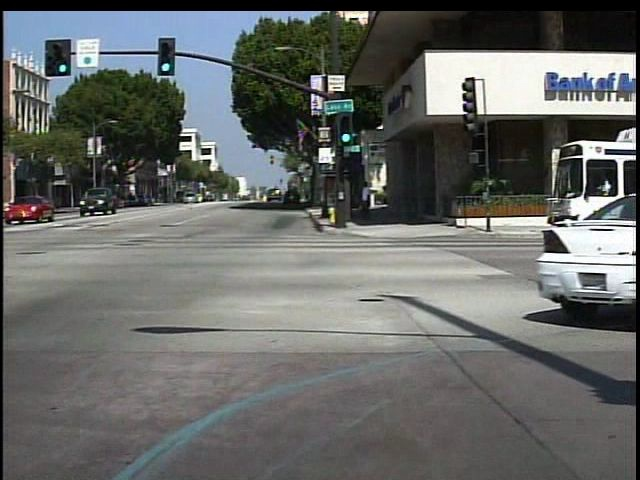person: (359, 180, 378, 226)
